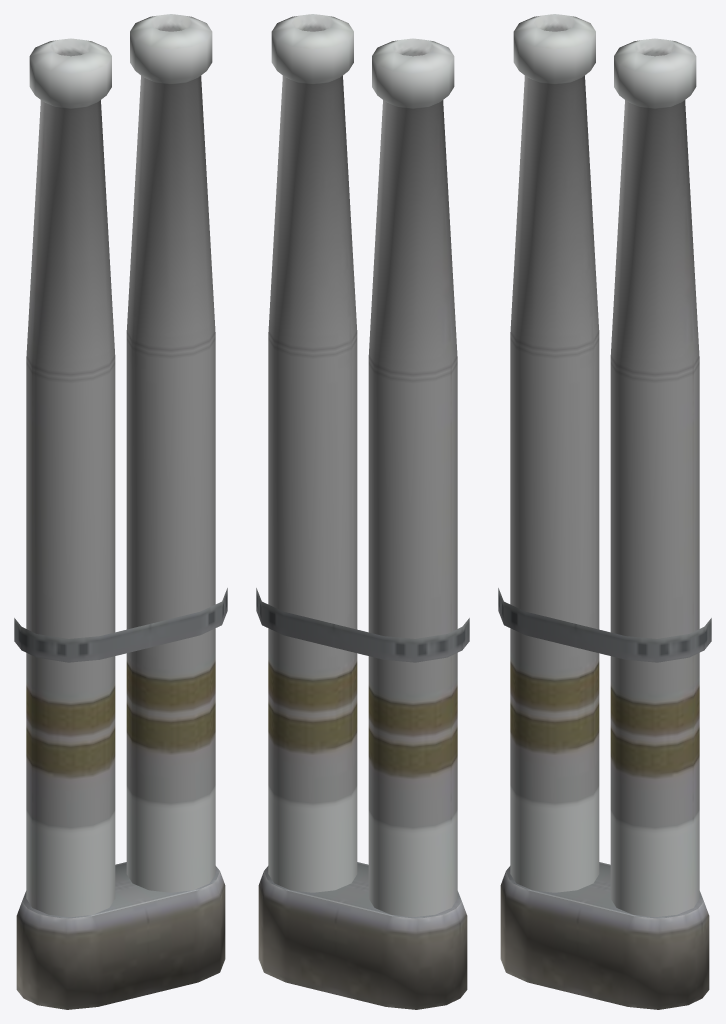
The model's file is Part - Tube 08-DDwY-cMX.glb.
The picture shows the model from 3 angles, left to right: view 1: azimuth 30°, elevation 25°; view 2: azimuth 150°, elevation 25°; view 3: azimuth 330°, elevation 25°; orthographic projection.
Parts seen in each view (by area): view 1: Tube_08, Tube_08_pad, Tube_08_clamp; view 2: Tube_08, Tube_08_pad, Tube_08_clamp; view 3: Tube_08, Tube_08_pad, Tube_08_clamp.
Boxes of the visible parts, left/top/right/bottom form: Tube_08: left=26, top=14, right=215, bottom=917; Tube_08_pad: left=16, top=862, right=225, bottom=1009; Tube_08_clamp: left=14, top=588, right=227, bottom=662; Tube_08: left=268, top=14, right=457, bottom=917; Tube_08_pad: left=258, top=862, right=467, bottom=1009; Tube_08_clamp: left=256, top=588, right=469, bottom=662; Tube_08: left=510, top=14, right=699, bottom=917; Tube_08_pad: left=500, top=862, right=709, bottom=1009; Tube_08_clamp: left=498, top=588, right=711, bottom=662.
Bounding box in the file's own units: 0.8736 × 3.95 × 0.4452.
Materials: 1 (1 with a texture image).
